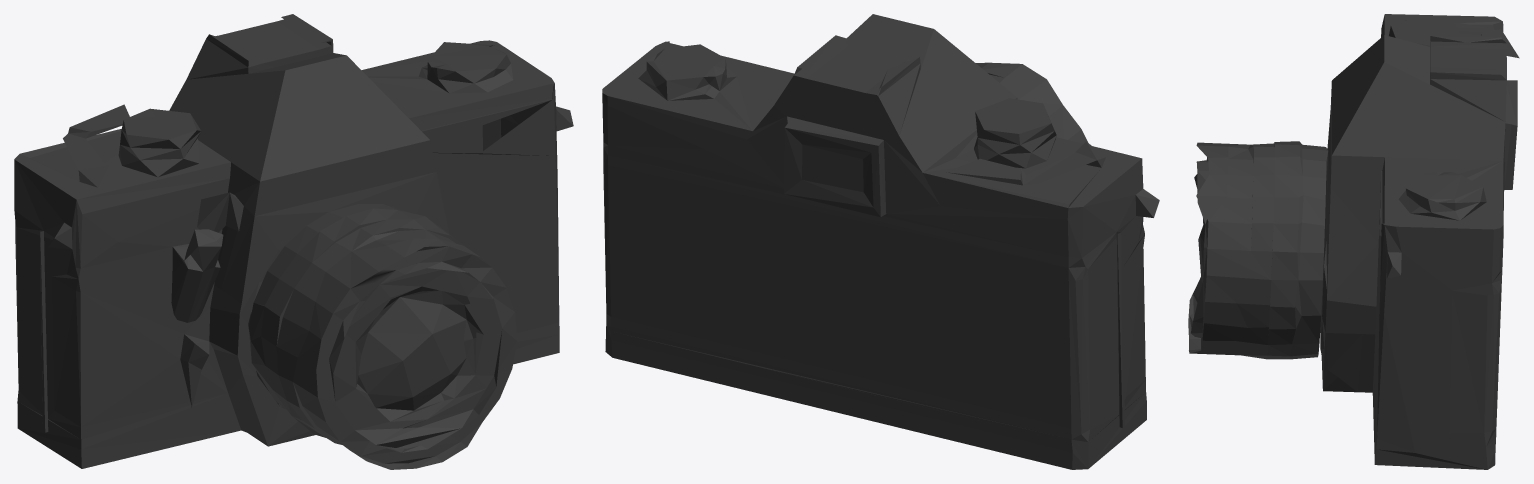
File: model_align.obj
3 views of the same model, side by side, from view 1: azimuth 30°, elevation 25°; view 2: azimuth 150°, elevation 25°; view 3: azimuth 270°, elevation 25° (orthographic). The views are drawn at different scales.
Bounding box in the file's own units: 0.1713 × 0.11 × 0.1049.
Materials: 1 (1 with a texture image).
